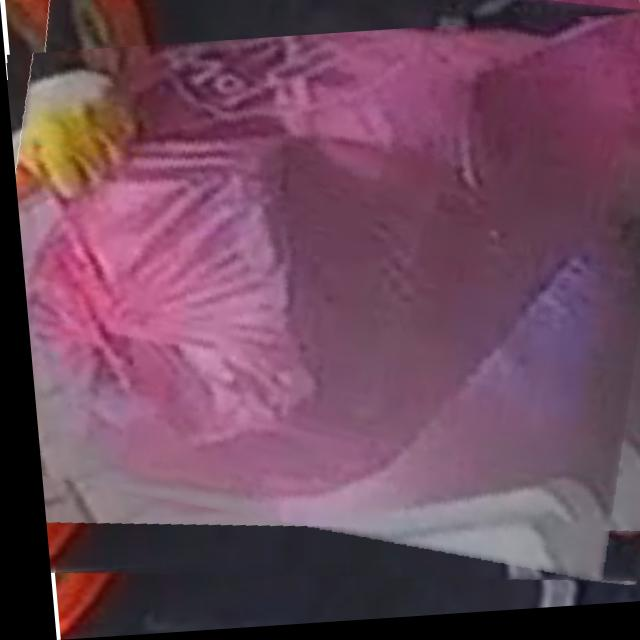other_trashbag: (15, 23, 640, 590)
